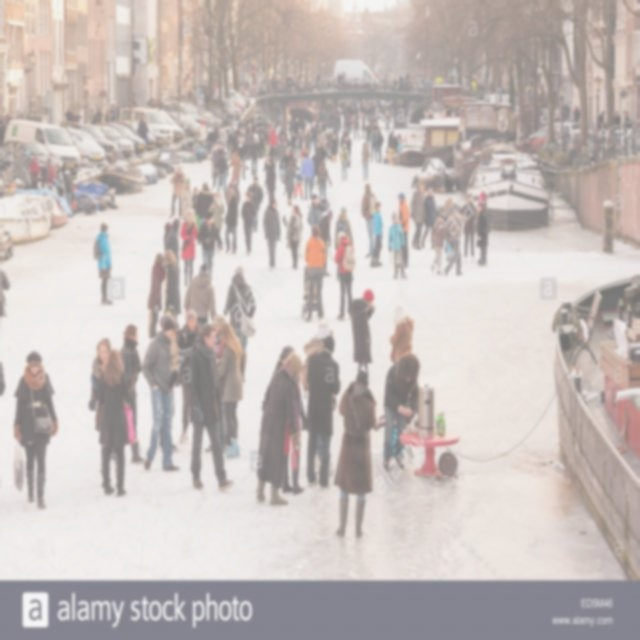pessoa: (188, 322, 237, 492), (10, 345, 60, 511), (332, 366, 379, 542), (254, 351, 303, 507), (138, 316, 182, 476), (304, 334, 342, 492), (96, 348, 134, 500), (157, 314, 197, 454), (378, 350, 422, 470), (274, 344, 308, 497), (114, 321, 148, 466), (304, 316, 334, 462), (216, 321, 244, 458), (177, 308, 203, 443), (89, 336, 112, 488), (223, 265, 257, 353), (303, 222, 327, 324), (183, 262, 217, 331), (350, 288, 376, 373), (212, 312, 228, 450), (196, 210, 224, 284), (333, 230, 355, 321), (443, 202, 468, 278), (388, 302, 416, 364), (147, 252, 166, 339), (180, 208, 200, 288), (281, 203, 304, 272), (334, 205, 354, 282), (387, 210, 409, 280), (428, 212, 452, 276), (96, 222, 114, 306), (262, 198, 282, 272), (164, 248, 182, 330), (360, 181, 378, 260), (460, 192, 478, 264), (409, 180, 427, 251), (396, 192, 411, 269), (318, 208, 334, 277), (368, 200, 384, 268), (475, 202, 492, 266), (421, 187, 438, 250), (240, 190, 256, 256), (168, 164, 186, 222), (209, 190, 225, 253), (247, 175, 264, 233), (278, 147, 298, 196), (162, 220, 173, 308), (224, 188, 238, 255), (226, 148, 250, 186), (164, 217, 182, 266), (306, 192, 328, 232), (213, 148, 230, 198), (60, 166, 76, 218), (299, 150, 315, 202), (315, 158, 332, 206), (196, 182, 214, 226), (180, 177, 195, 223), (208, 190, 221, 242), (210, 144, 224, 192), (265, 158, 277, 210), (0, 268, 12, 320), (248, 136, 262, 178), (284, 158, 296, 206), (338, 139, 351, 182), (237, 136, 249, 180), (276, 136, 288, 180), (224, 176, 241, 207), (278, 124, 290, 164), (478, 189, 492, 223), (190, 186, 200, 233), (45, 156, 58, 192), (360, 141, 370, 183), (354, 98, 380, 114), (310, 146, 323, 177), (293, 164, 304, 200), (328, 132, 339, 168), (314, 124, 324, 162), (246, 114, 256, 150), (244, 122, 253, 161), (370, 127, 380, 162), (308, 121, 318, 156), (315, 322, 332, 342), (94, 105, 104, 139), (296, 146, 310, 170), (140, 118, 150, 150), (622, 111, 632, 143), (394, 134, 404, 166), (210, 140, 218, 179), (0, 359, 7, 402), (319, 142, 334, 162), (376, 128, 384, 164), (371, 121, 380, 153), (344, 134, 352, 169), (326, 127, 334, 162), (314, 129, 322, 164), (262, 154, 270, 188), (262, 126, 270, 160), (205, 126, 214, 156), (192, 137, 202, 163), (267, 128, 280, 148), (29, 169, 41, 190), (352, 114, 361, 142), (383, 107, 392, 135), (213, 84, 222, 112), (193, 140, 204, 162), (30, 155, 40, 179), (212, 124, 220, 154), (294, 130, 304, 154), (365, 120, 373, 150), (391, 132, 398, 166), (226, 126, 233, 160), (303, 128, 312, 154), (368, 113, 376, 142), (255, 125, 262, 158), (522, 86, 534, 105), (360, 112, 368, 140), (368, 70, 382, 86), (237, 119, 244, 148), (268, 144, 278, 164), (383, 70, 393, 90), (572, 106, 580, 130), (290, 130, 298, 154), (326, 110, 334, 134), (292, 116, 302, 135), (89, 107, 99, 125), (613, 110, 622, 130), (344, 116, 352, 138), (284, 73, 292, 94), (321, 127, 328, 151), (148, 96, 160, 110), (270, 74, 278, 95), (498, 84, 506, 105), (299, 126, 308, 144), (64, 106, 74, 122), (598, 110, 606, 130), (396, 135, 404, 155), (387, 128, 395, 148), (380, 102, 388, 122), (4, 109, 14, 125), (336, 108, 342, 134), (288, 72, 295, 94), (353, 106, 360, 128), (298, 115, 306, 134), (444, 197, 454, 212), (385, 101, 392, 122), (340, 68, 346, 92), (310, 115, 316, 139), (233, 124, 243, 138), (213, 81, 219, 104), (342, 104, 348, 126), (104, 108, 112, 124), (138, 113, 146, 129), (240, 124, 248, 140), (316, 70, 322, 91), (265, 142, 272, 160), (319, 108, 326, 126), (203, 90, 209, 110), (471, 78, 477, 98), (344, 98, 356, 108), (241, 78, 250, 91), (300, 73, 306, 92), (565, 102, 571, 121), (109, 104, 116, 120), (284, 134, 292, 148), (72, 111, 82, 122), (478, 80, 484, 98), (393, 73, 399, 91), (260, 126, 264, 152), (540, 81, 546, 98), (421, 74, 426, 94), (435, 74, 443, 86), (280, 133, 288, 145), (448, 73, 456, 85), (296, 73, 301, 92), (334, 111, 340, 126), (337, 70, 343, 84), (270, 120, 276, 134), (187, 88, 193, 100), (332, 108, 338, 120), (16, 114, 28, 120), (122, 102, 133, 108), (350, 106, 354, 122), (572, 104, 578, 114), (404, 72, 410, 82), (360, 110, 364, 124), (398, 74, 403, 84), (237, 134, 242, 144), (321, 120, 326, 130), (476, 80, 480, 92), (312, 118, 318, 126), (118, 105, 121, 119), (219, 142, 225, 149), (374, 114, 378, 124), (228, 120, 234, 126), (430, 74, 433, 85), (252, 129, 256, 137), (348, 112, 352, 118)
